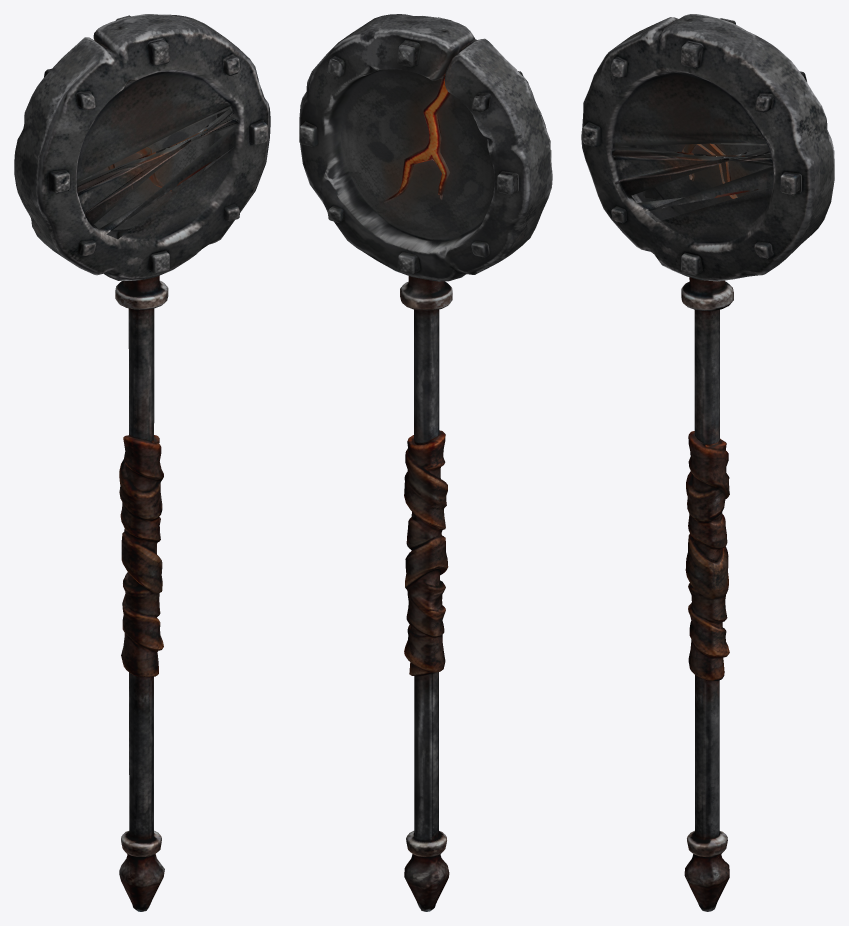
Rendered from sigillo_vorrkai.glb.
3 views of the same model, side by side, from view 1: azimuth 30°, elevation 25°; view 2: azimuth 150°, elevation 25°; view 3: azimuth 330°, elevation 25° (orthographic).
Parts seen in each view (by area): view 1: sigillo_vorrkai; view 2: sigillo_vorrkai; view 3: sigillo_vorrkai.
Boxes of the visible parts, left/top/right/bottom form: sigillo_vorrkai: left=14, top=14, right=270, bottom=911; sigillo_vorrkai: left=299, top=14, right=552, bottom=911; sigillo_vorrkai: left=581, top=14, right=834, bottom=911.
Bounding box in the file's own units: 0.1108 × 0.4 × 0.0338.
1 material, 1 textured.
